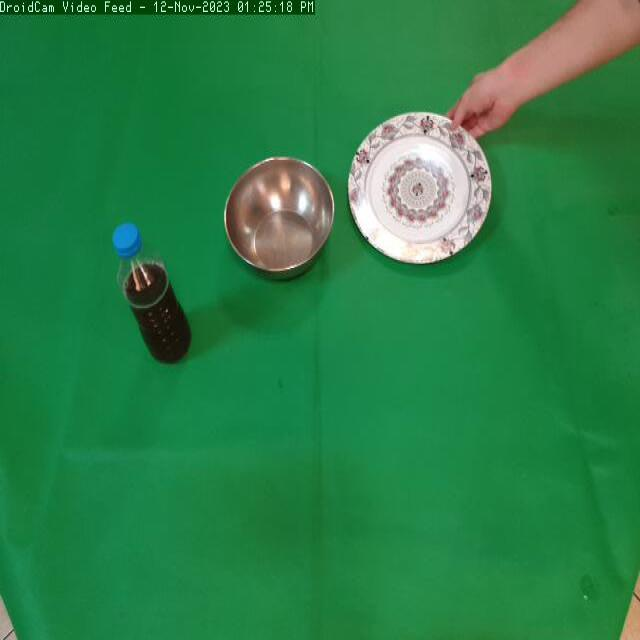bowl: (223, 153, 342, 289)
fullbottle: (106, 208, 199, 376)
plate: (341, 99, 508, 274)
